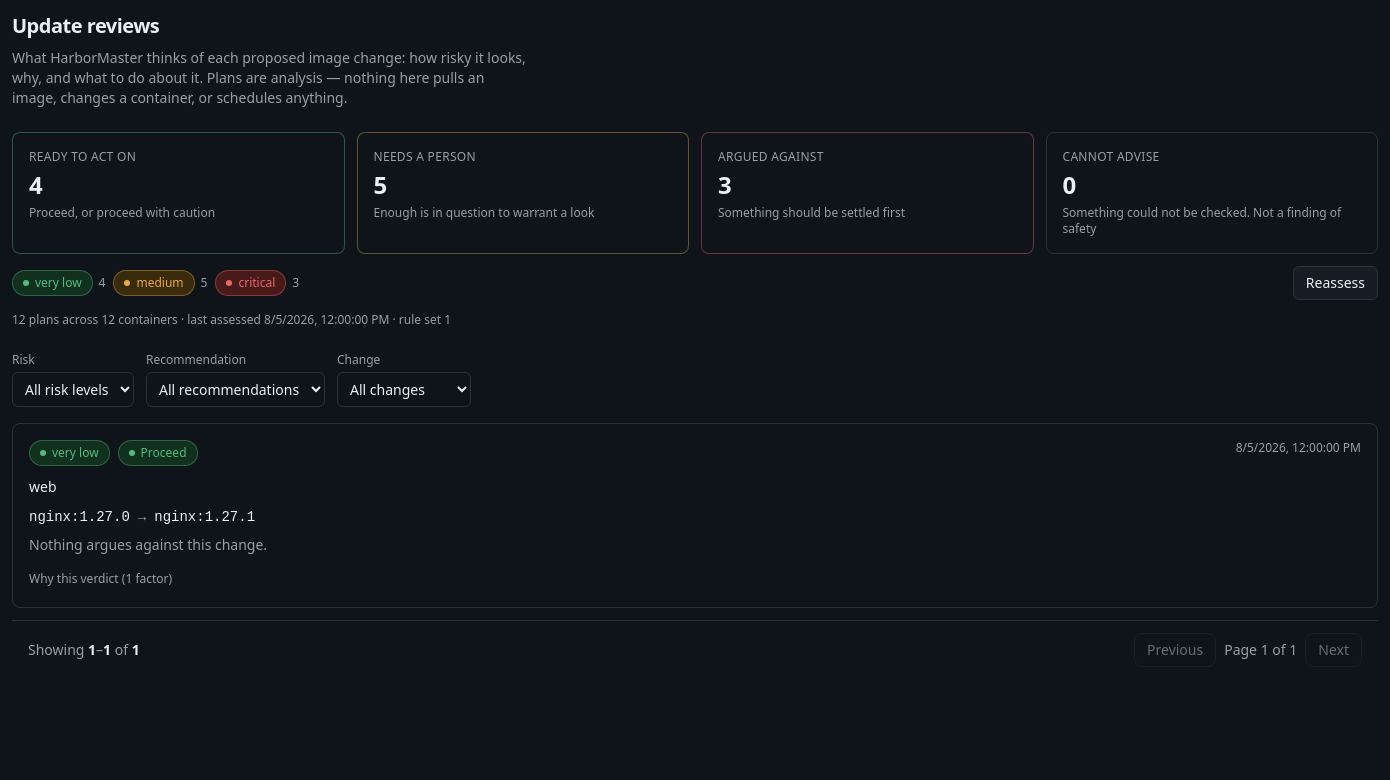
Test: distinguishes a stated factor from a scored one
Click the heading "Why this verdict (1 factor)".
click(101, 578)  # box 29,570 -> 172,587
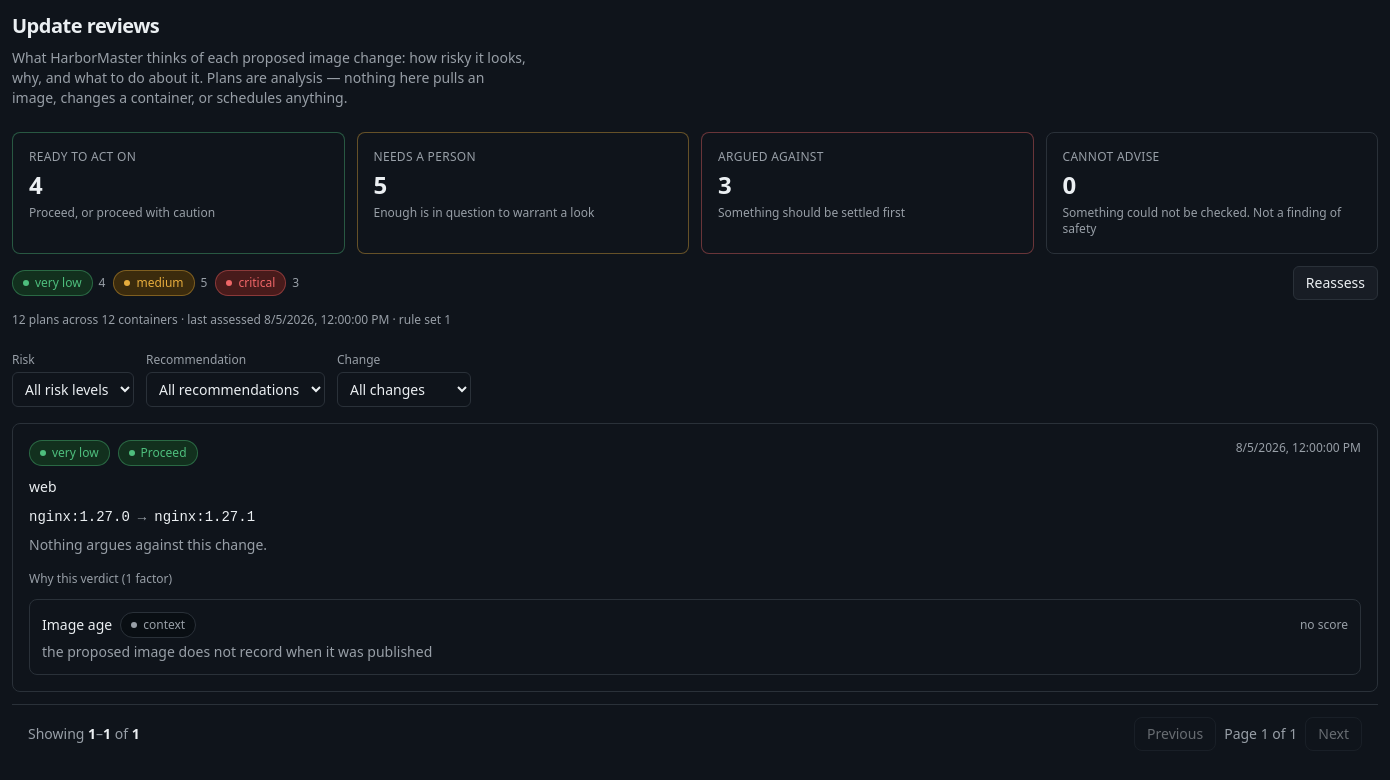
Result: the text "no score" is shown at 1300,617 -> 1348,633
